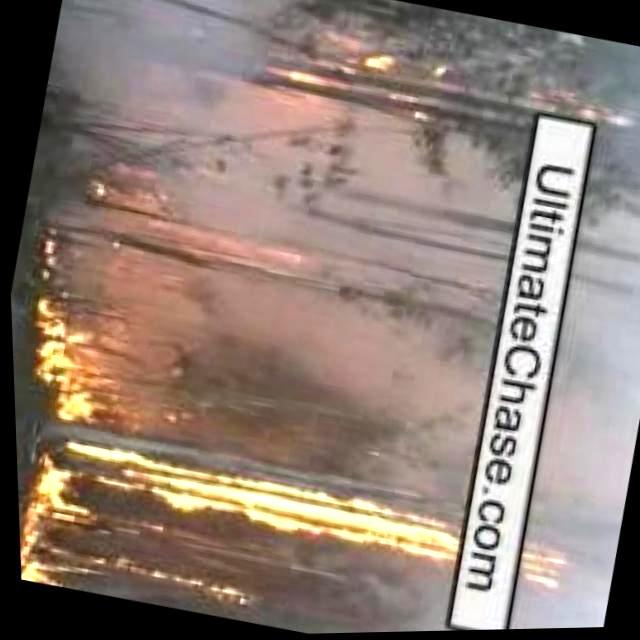fire: (29, 426, 554, 608), (22, 298, 124, 428), (15, 540, 89, 592)
